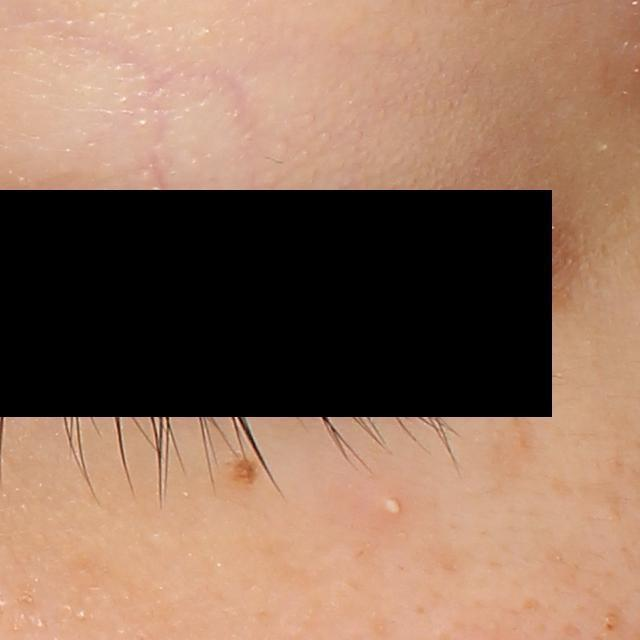melasma: (228, 536, 331, 595), (488, 414, 533, 481), (62, 545, 129, 589), (425, 537, 482, 584), (531, 279, 580, 323)
nevus: (227, 456, 265, 490)
pustule: (366, 485, 409, 525)
